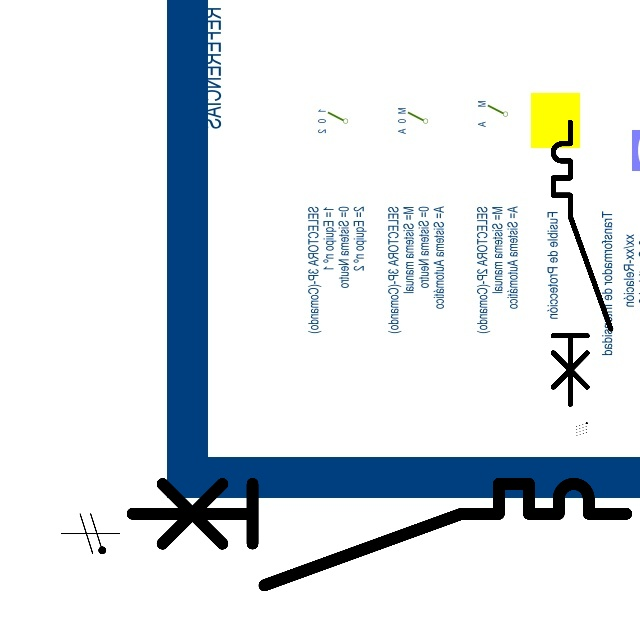interruptor_termomagnetico: (119, 471, 638, 598), (546, 115, 618, 412)
